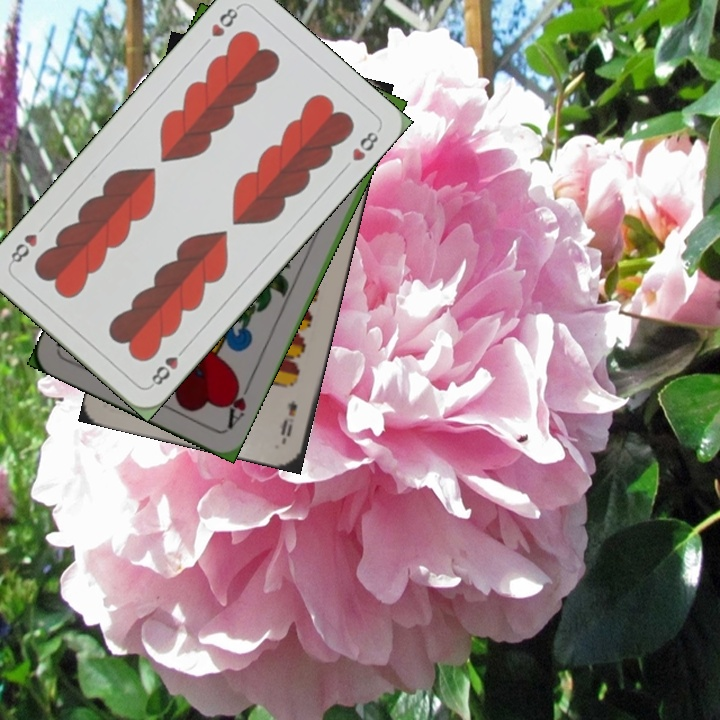E9: (276, 396, 300, 444)
H8: (146, 342, 190, 390), (207, 1, 243, 40)
HA: (221, 376, 255, 432)
